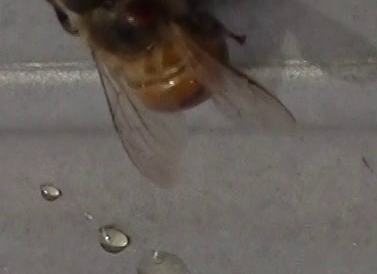Varroa destructor: (121, 2, 157, 28)
